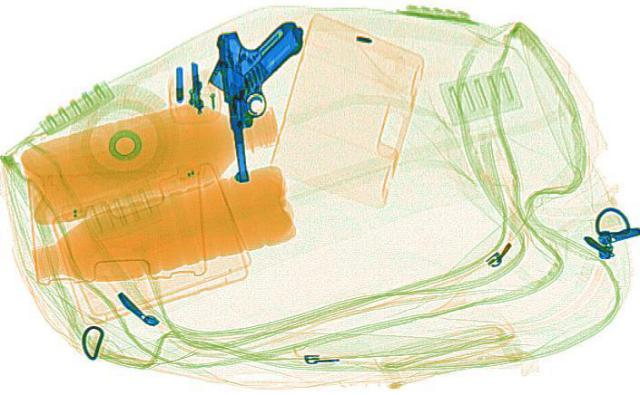Gun: (200, 18, 302, 181)
